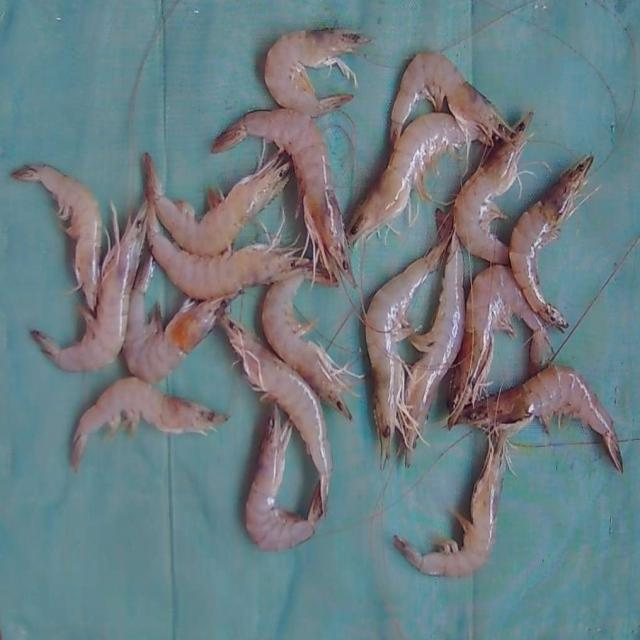shrimp: (212, 108, 355, 284), (222, 318, 332, 517), (31, 204, 146, 372), (365, 239, 448, 465), (348, 112, 492, 241), (394, 425, 508, 578), (461, 366, 623, 472), (449, 264, 551, 427), (401, 233, 465, 476), (144, 151, 292, 256), (262, 267, 362, 419), (147, 207, 307, 300), (510, 155, 595, 330), (71, 377, 228, 471), (123, 254, 227, 383), (10, 165, 101, 309), (455, 112, 533, 264), (391, 52, 513, 145), (246, 405, 320, 551), (265, 27, 370, 116)
